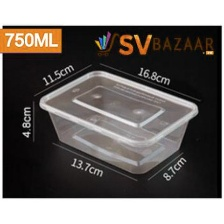plastic_box: (34, 65, 204, 178)
